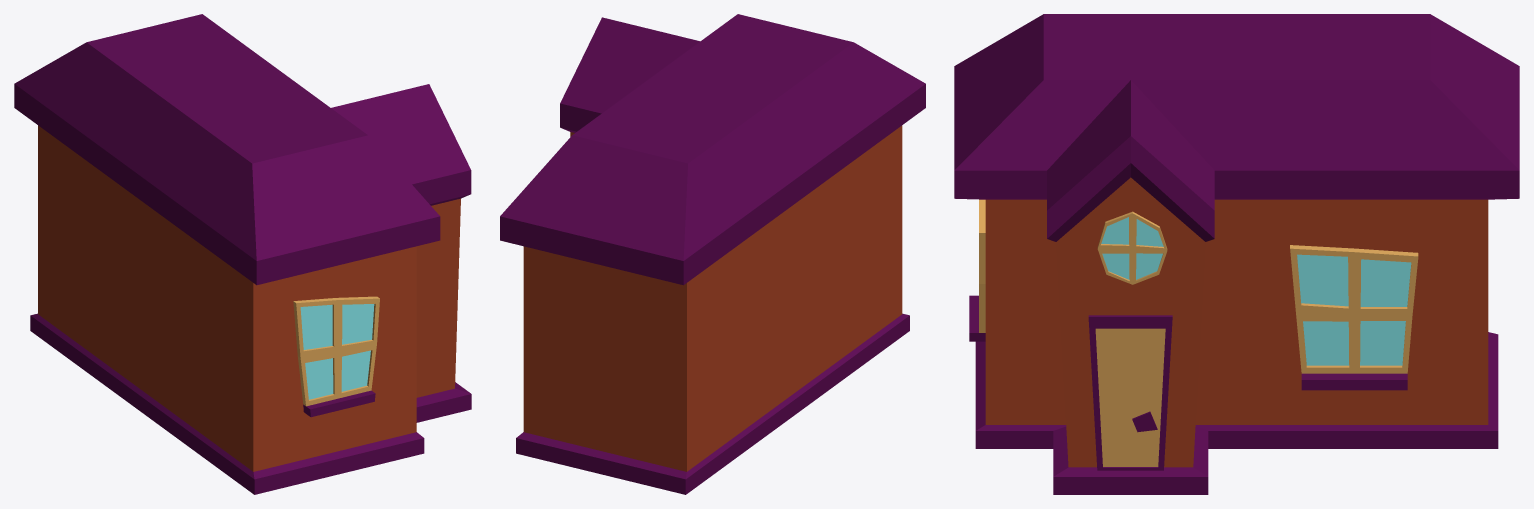
Rendered from House 1.fbx.
The picture shows the model from 3 angles, left to right: view 1: azimuth 30°, elevation 25°; view 2: azimuth 150°, elevation 25°; view 3: azimuth 270°, elevation 25°; orthographic projection. The views are drawn at different scales.
Visible parts, largest first — view 1: Cube.003; view 2: Cube.003; view 3: Cube.003, Cube.004.
Part boxes in pixels (box(x1,y1,x2,y2)): Cube.003: box(14, 14, 471, 494); Cube.003: box(500, 14, 925, 494); Cube.003: box(954, 14, 1519, 494); Cube.004: box(1088, 315, 1172, 470).
Size of the model in its own units: 536 by 604 by 875.
